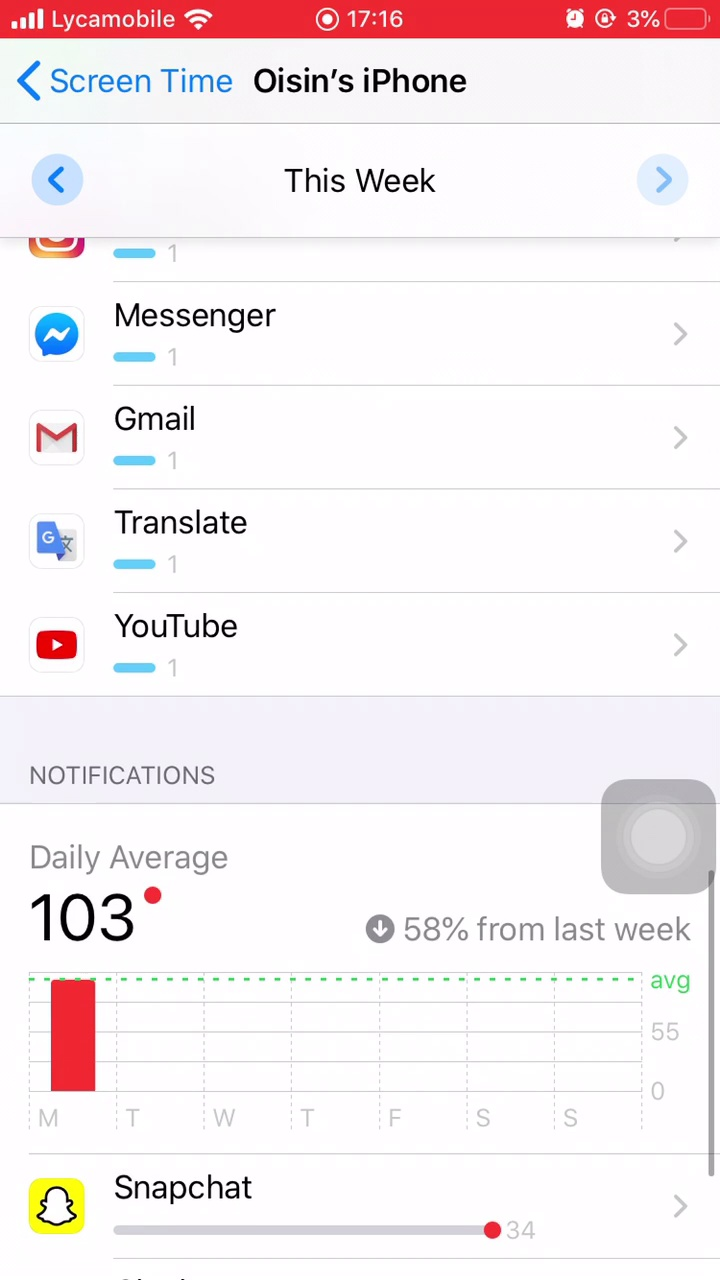not_app: (12, 1158, 590, 1260)
not_over: (14, 736, 284, 960)
pick_app: (26, 280, 425, 389), (23, 485, 325, 599), (20, 602, 332, 692), (25, 391, 314, 486)
week: (271, 156, 468, 205)
